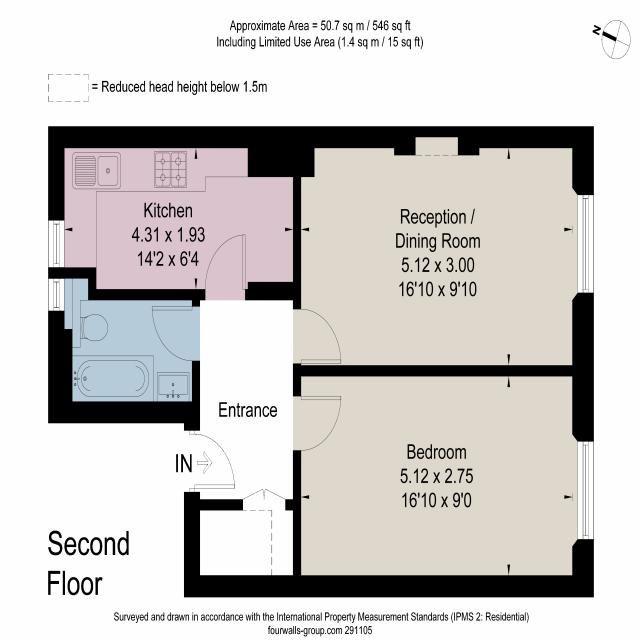DOOR: (183, 429, 237, 493), (292, 307, 342, 365), (292, 395, 342, 453), (151, 305, 201, 362), (205, 233, 246, 302)
ROOM: (292, 126, 594, 377), (292, 364, 595, 599), (48, 126, 301, 301)
WINDOW: (576, 193, 594, 294), (576, 440, 594, 541), (48, 220, 65, 268), (48, 278, 65, 312)
